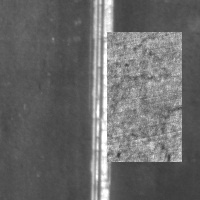crazing: (107, 32, 182, 162)
scratches: (85, 1, 116, 199)
